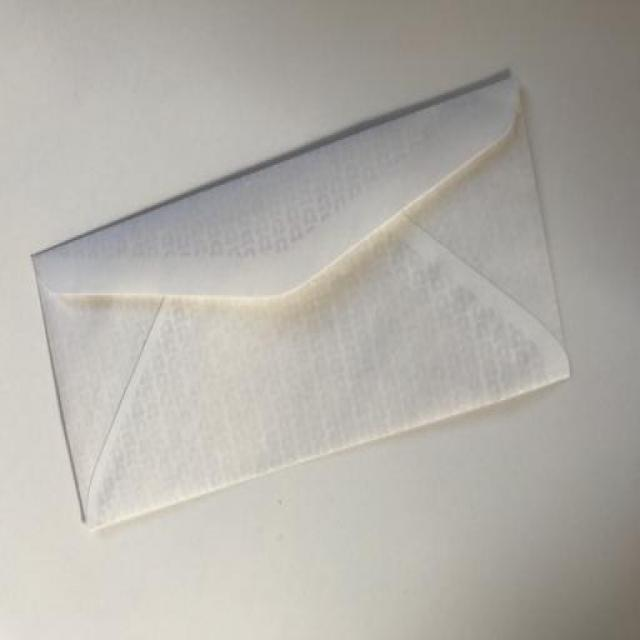paper: (21, 74, 595, 581)
